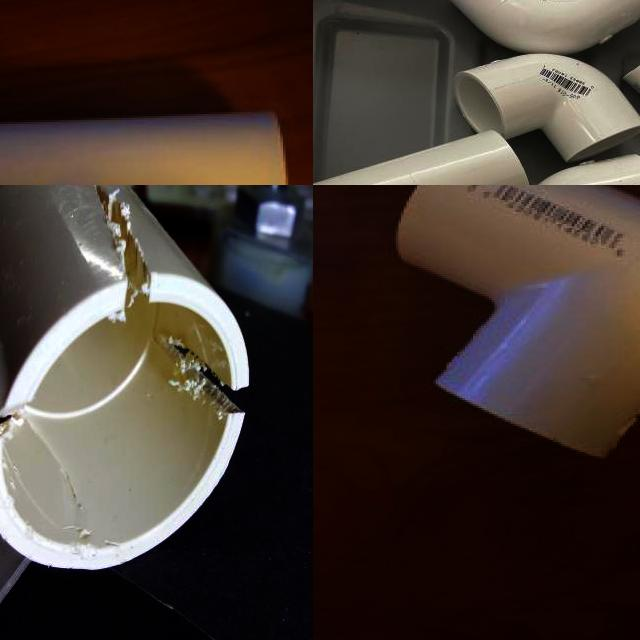Defective: (89, 185, 152, 323), (162, 331, 263, 416), (0, 395, 65, 524)
L Joint: (455, 54, 640, 164)
T Joint: (393, 185, 640, 461), (0, 109, 291, 185), (313, 130, 530, 185)
